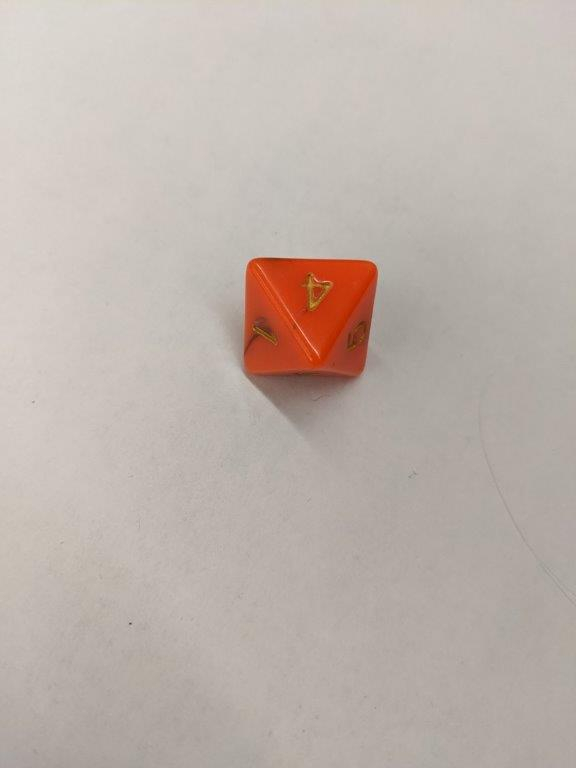d8-4: (243, 257, 379, 382)
